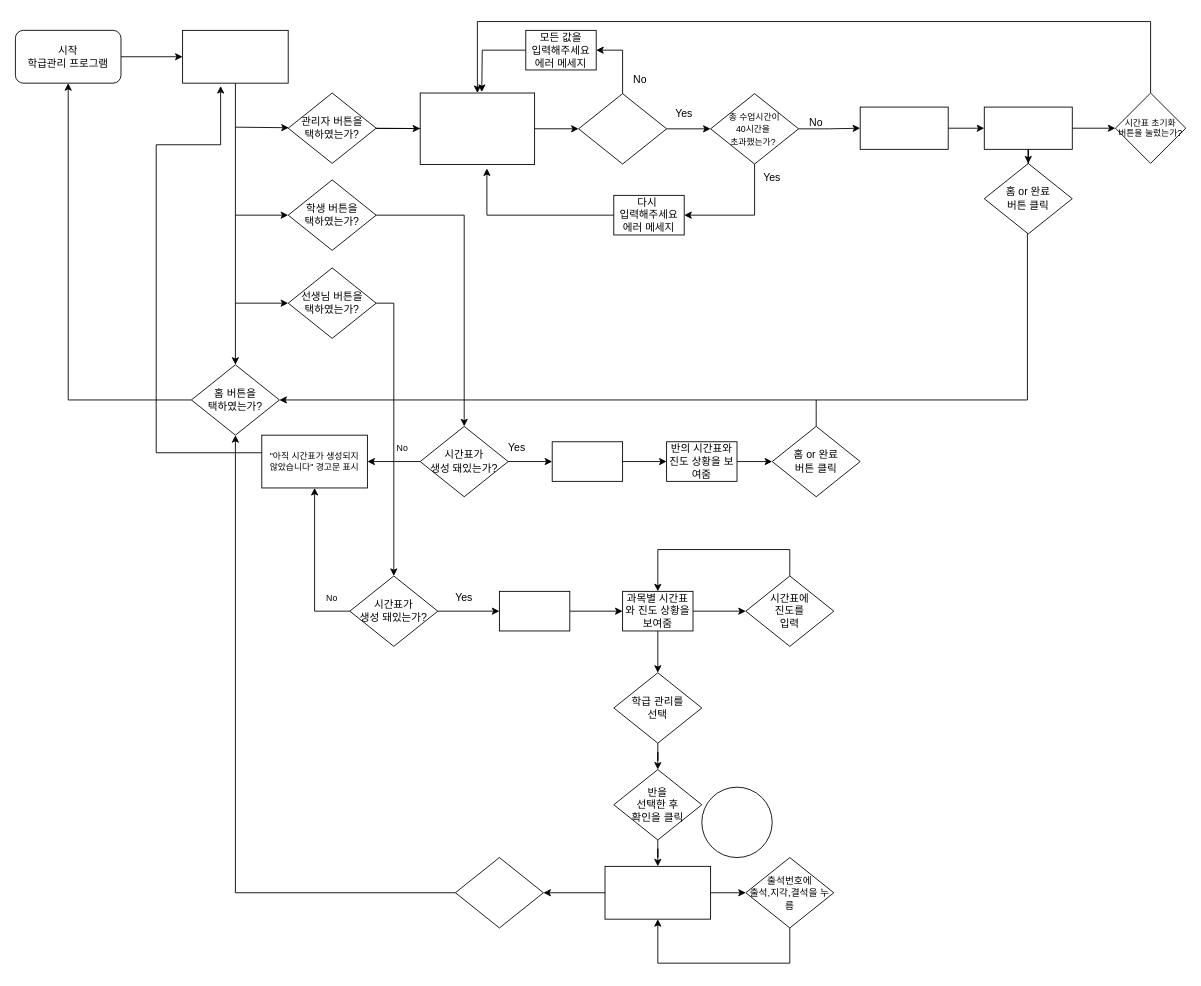
Some shapes in this 1201 by 986 pixel diagram are drawn without their labels. The centre of each missing label's shape, as x and y in pixels:
값이 모두 입력 되었는가 ?: [622,128]
관리자,학생,선생님 홈버튼 중 택1: [235,56]
나가기 or 홈 버튼 클릭: [499,892]
모든 시간표를 새창에 띄움: [1027,127]
반의 시간표와 출결 현황을 보여줌: [657,892]
시간표 생성 버튼 클릭: [903,127]
언제 요일 선택할지 미정: [736,822]
자신의 과목을 선택 후 확인을 클릭: [534,610]
자신의 반을 선택 후 확인을 클릭: [587,461]
총 수업시간, 과목의 개수, 과목명, 반의 개수, 과목당 선생님 수, 과목의 일주일당 수업시수 입력: [477,128]
